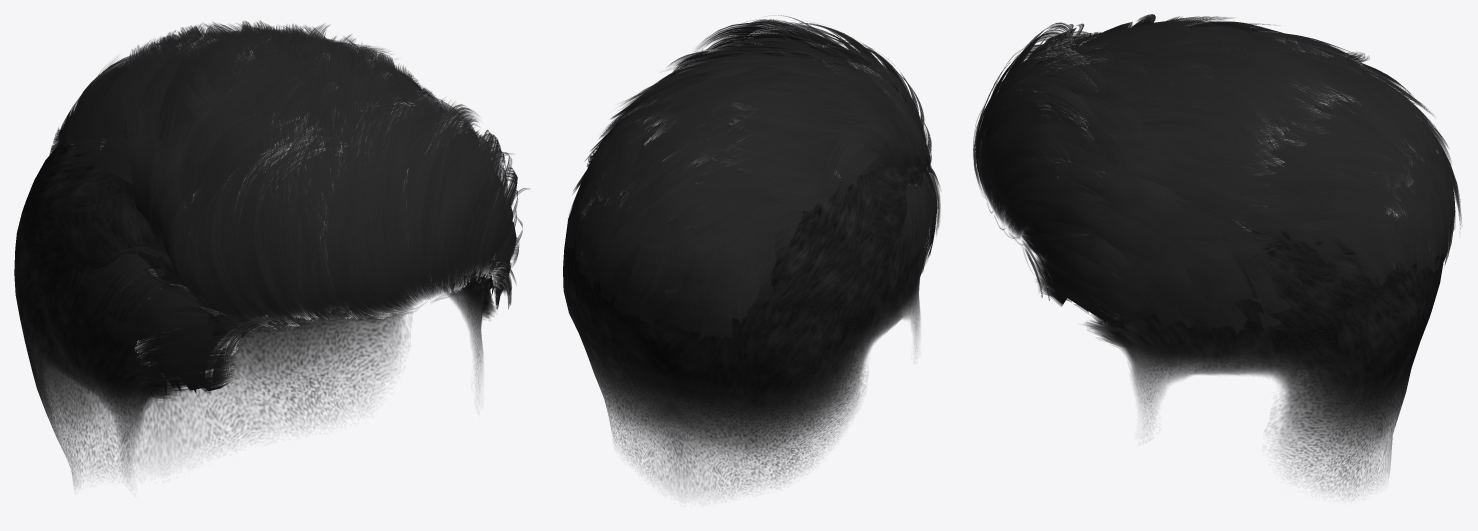
The model's file is Quiff.glb.
The picture shows the model from 3 angles, left to right: view 1: azimuth 30°, elevation 25°; view 2: azimuth 150°, elevation 25°; view 3: azimuth 270°, elevation 25°; orthographic projection. The views are drawn at different scales.
Visible parts, largest first — view 1: QUIFF, SCALP LEBAR; view 2: QUIFF, SCALP LEBAR; view 3: QUIFF, SCALP LEBAR.
Part boxes in pixels (bbox=[...]): QUIFF: bbox=[49, 20, 528, 397]; SCALP LEBAR: bbox=[14, 140, 495, 488]; QUIFF: bbox=[566, 15, 940, 340]; SCALP LEBAR: bbox=[563, 157, 930, 496]; QUIFF: bbox=[973, 14, 1461, 334]; SCALP LEBAR: bbox=[1005, 210, 1444, 496].
Bounding box in the file's own units: 0.2033 × 0.2512 × 0.2412.
2 materials, 2 textured.
